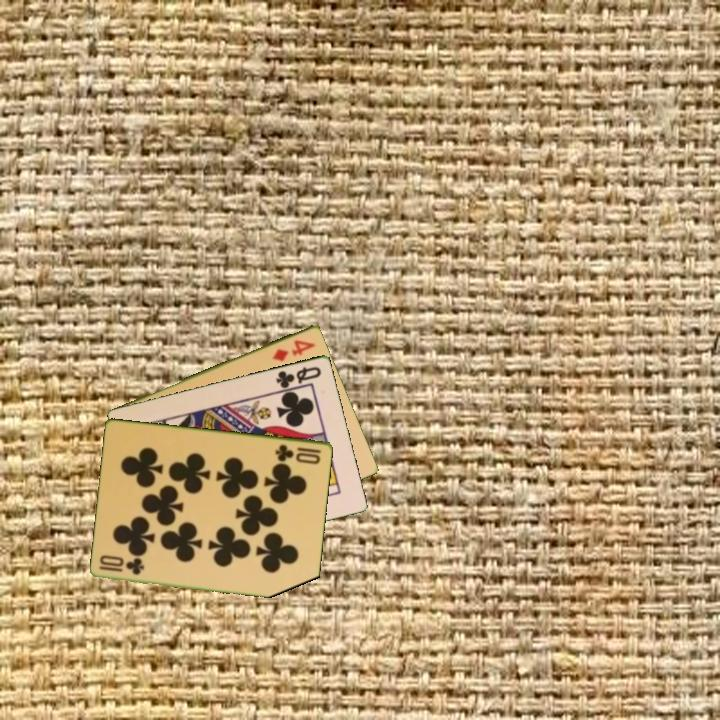10c: (272, 441, 324, 466), (96, 553, 147, 577)
4d: (268, 336, 318, 364)
Qc: (272, 363, 324, 391)
